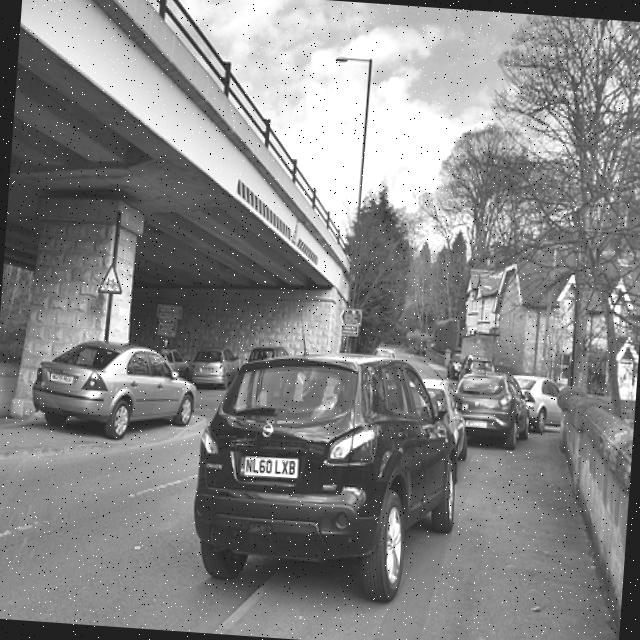Autre: (237, 452, 302, 480)
